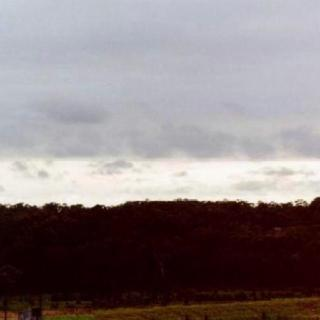Stratus: (0, 0, 320, 174)
